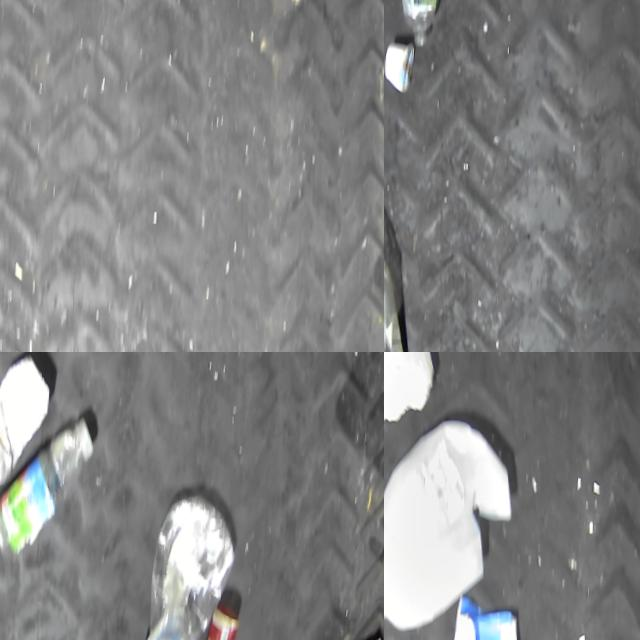can: (0, 352, 56, 488)
milk_jug: (384, 418, 519, 634)
plastic_bottle: (0, 413, 103, 565), (139, 497, 244, 640), (398, 0, 444, 50)
